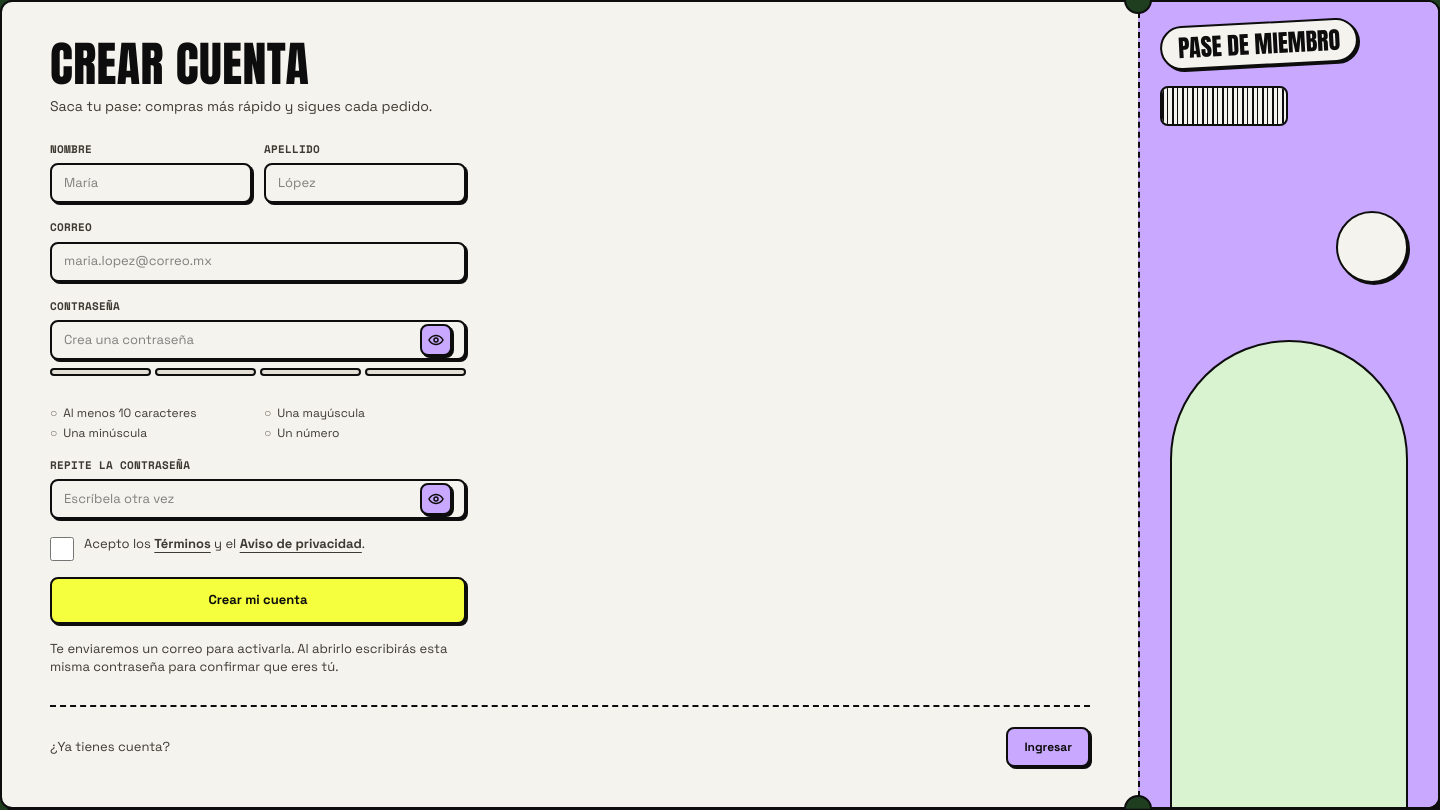
Test case: RegisterFlow › editar un campo borra solo su error
Click the button "Crear mi cuenta": (258, 600) [50,577,466,624]
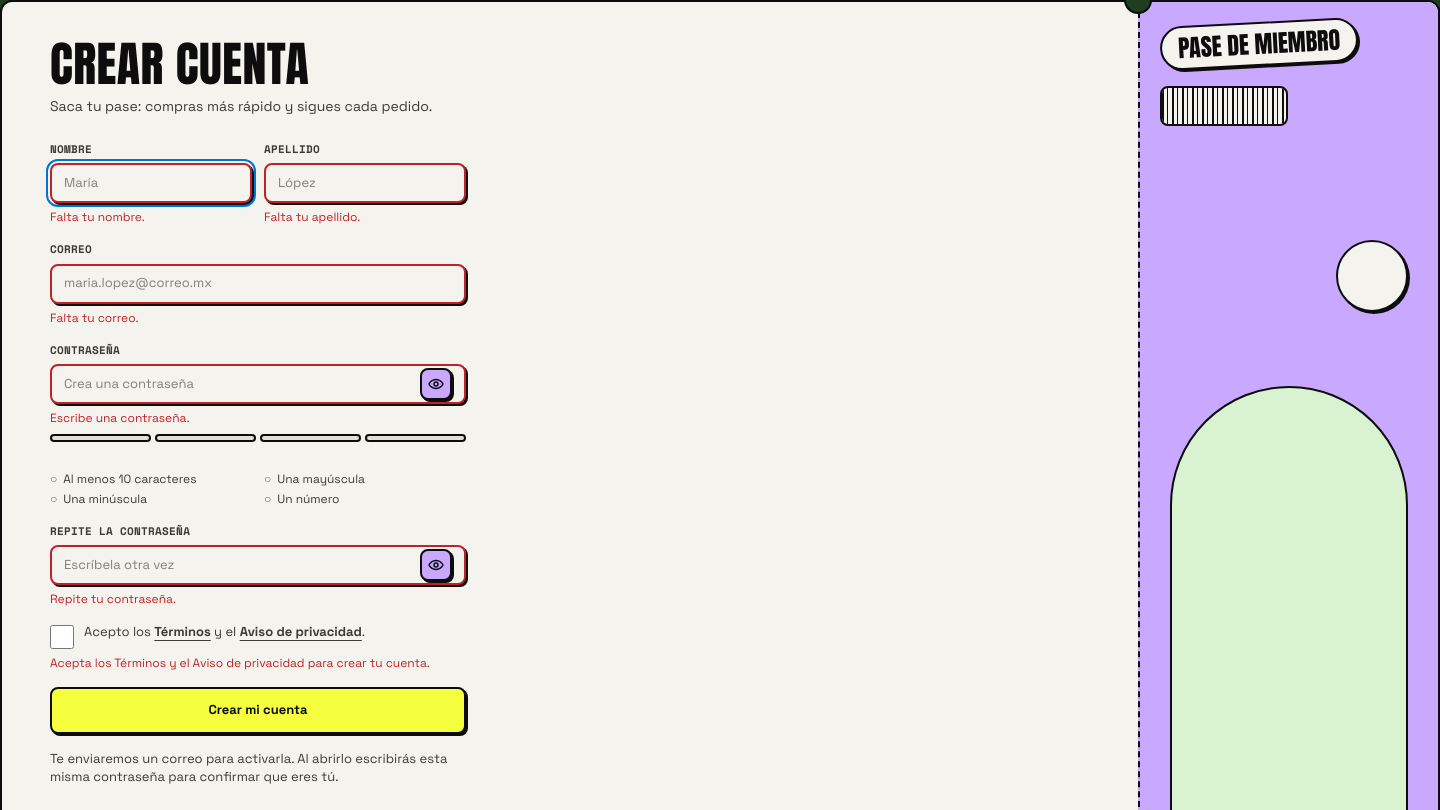
In the field labelled "Nombre": (151, 183) [64,174,238,192], type "Ma"
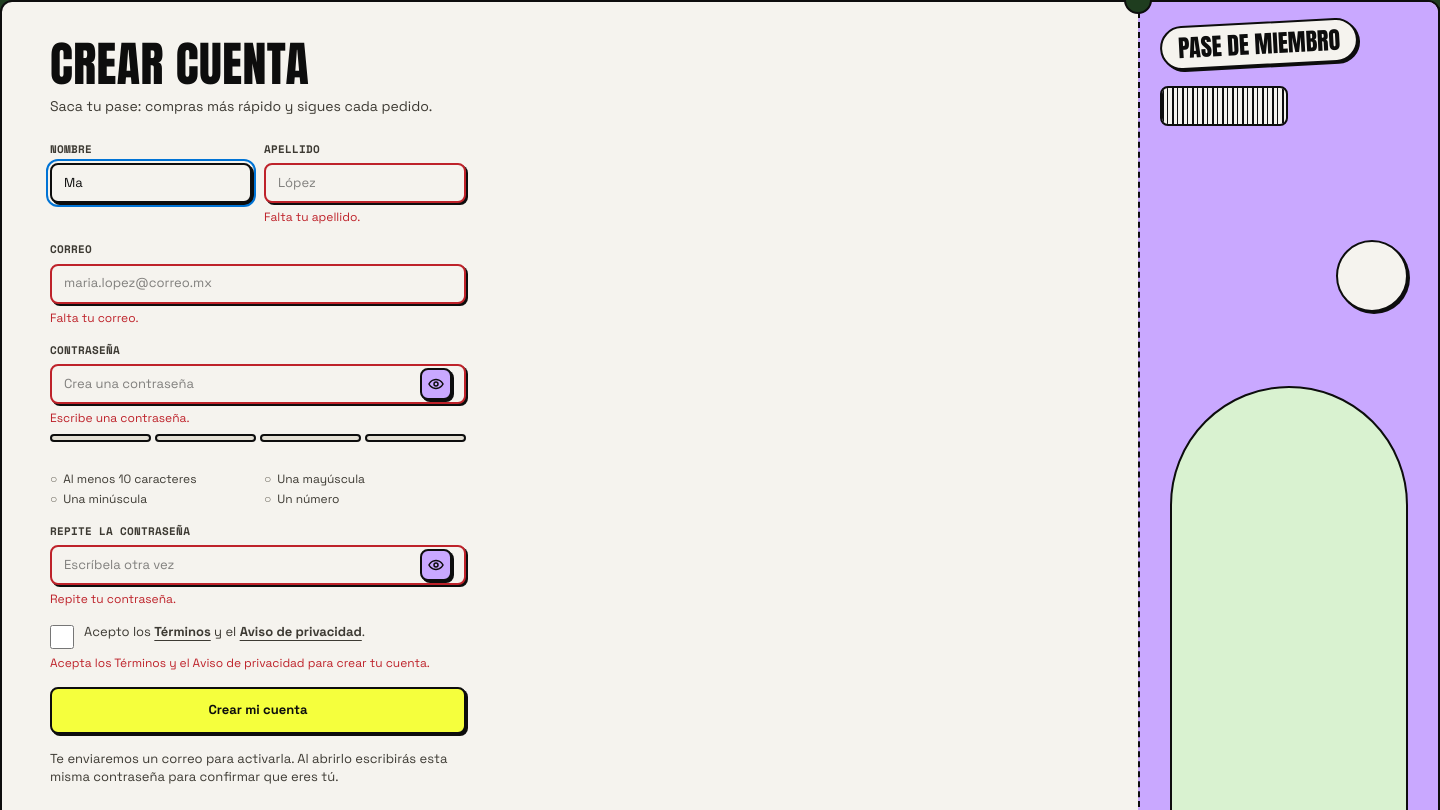
Check: the text "Falta tu apellido." is shown, box [264,209,360,225]
Check: the text "Falta tu nombre." is gone
